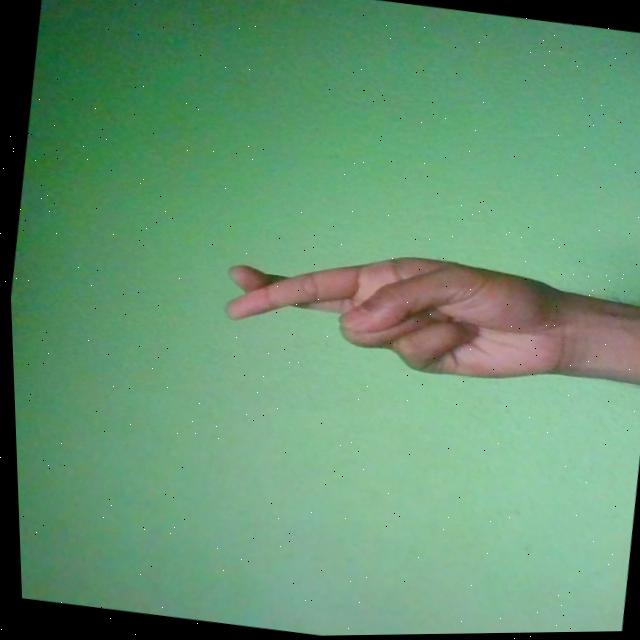Good Luck: (215, 229, 587, 396)
